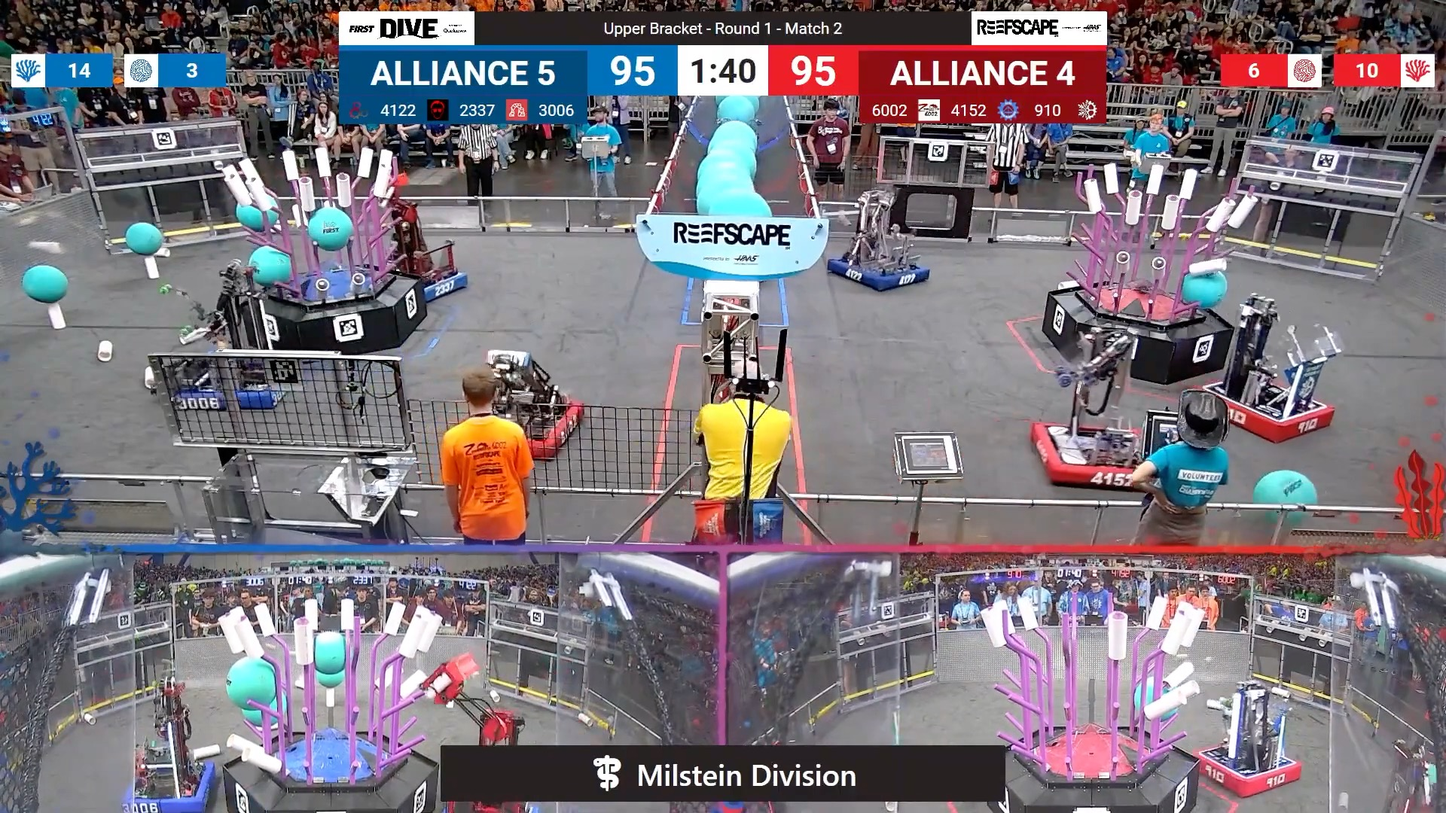bumpers: (1191, 380, 1344, 447), (1026, 419, 1156, 493), (456, 394, 590, 461), (170, 349, 305, 415), (117, 752, 224, 812), (1188, 744, 1307, 797), (816, 251, 936, 294), (403, 264, 476, 304)
